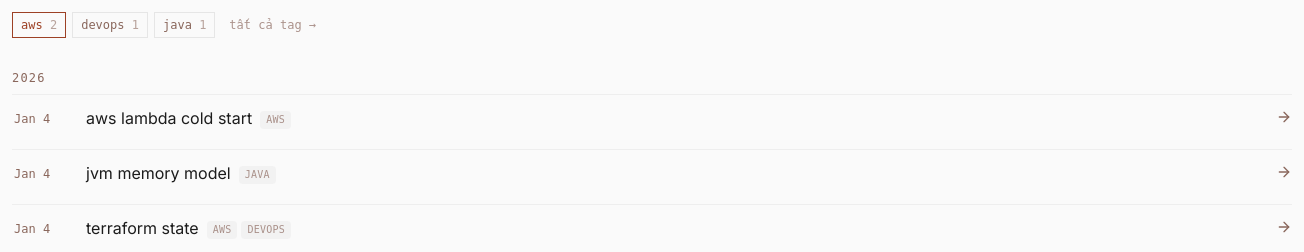
Test: BlogIndex tag filter › narrows the list to posts carrying the clicked tag
This screenshot has width=1304, height=252.
Click the button "aws 2".
click(39, 25)  # box [12,12,66,38]
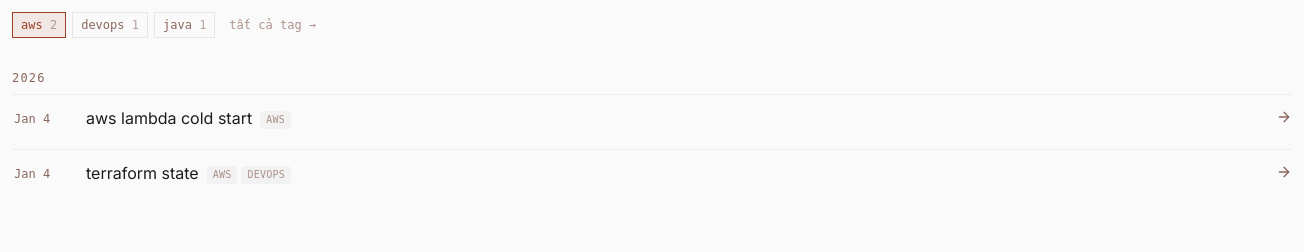
Expected: the text "aws lambda cold start" is shown, [86,108,252,128]
Now the link "jvm memory model" is gone
